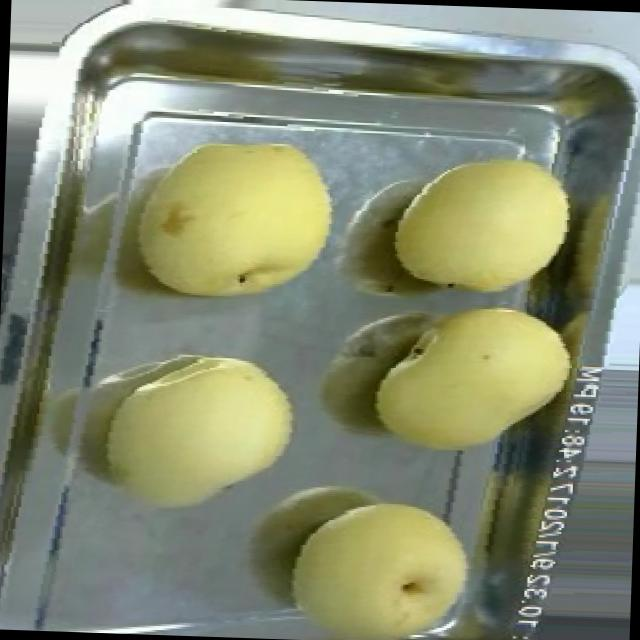Fruit: (114, 119, 354, 323), (82, 334, 316, 532), (358, 280, 592, 476), (378, 132, 592, 315), (269, 478, 495, 640)
